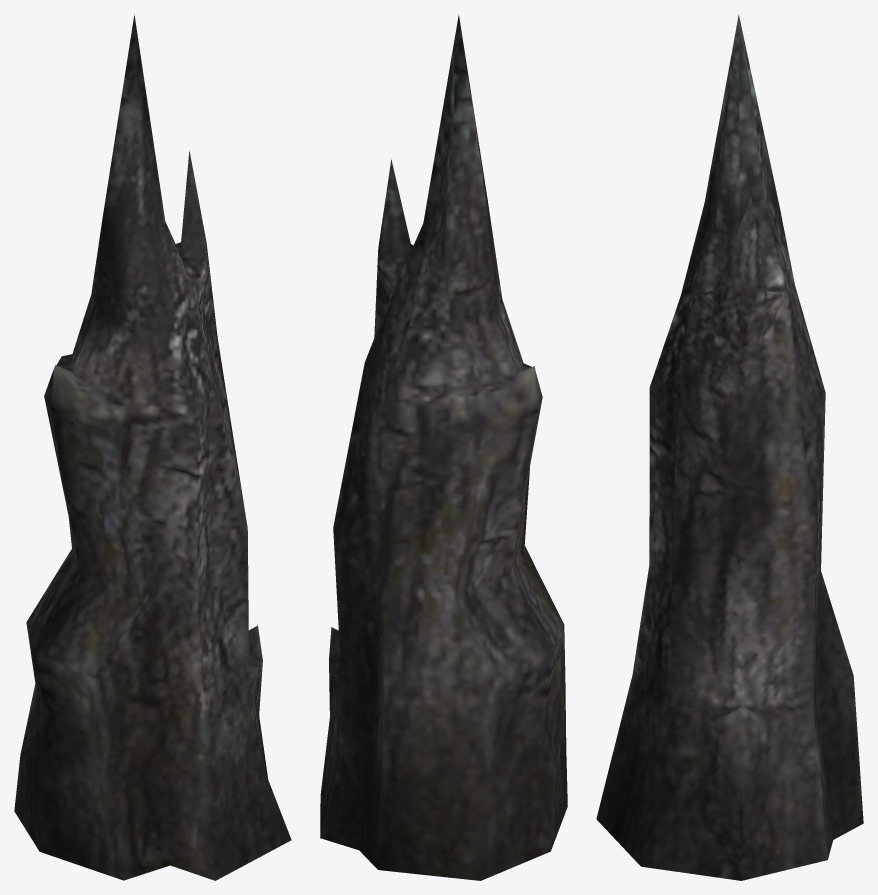
File: spearrock_003.glb
The picture shows the model from 3 angles, left to right: view 1: azimuth 30°, elevation 25°; view 2: azimuth 150°, elevation 25°; view 3: azimuth 270°, elevation 25°; orthographic projection.
Parts seen in each view (by area): view 1: SpearRock_003; view 2: SpearRock_003; view 3: SpearRock_003.
Part boxes in pixels (<box>): SpearRock_003: <box>14,14,291,880</box>; SpearRock_003: <box>320,14,567,880</box>; SpearRock_003: <box>596,14,863,880</box>.
Size of the model in its own units: 1.97 by 6.55 by 1.98.
Materials: 1 (1 with a texture image).
